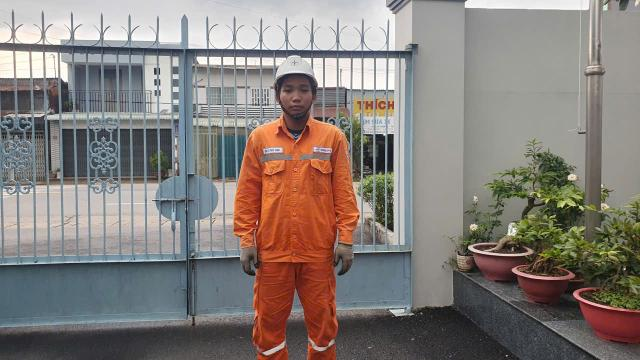gloves: (329, 237, 362, 275), (237, 238, 264, 280)
helmet: (273, 52, 324, 92)
